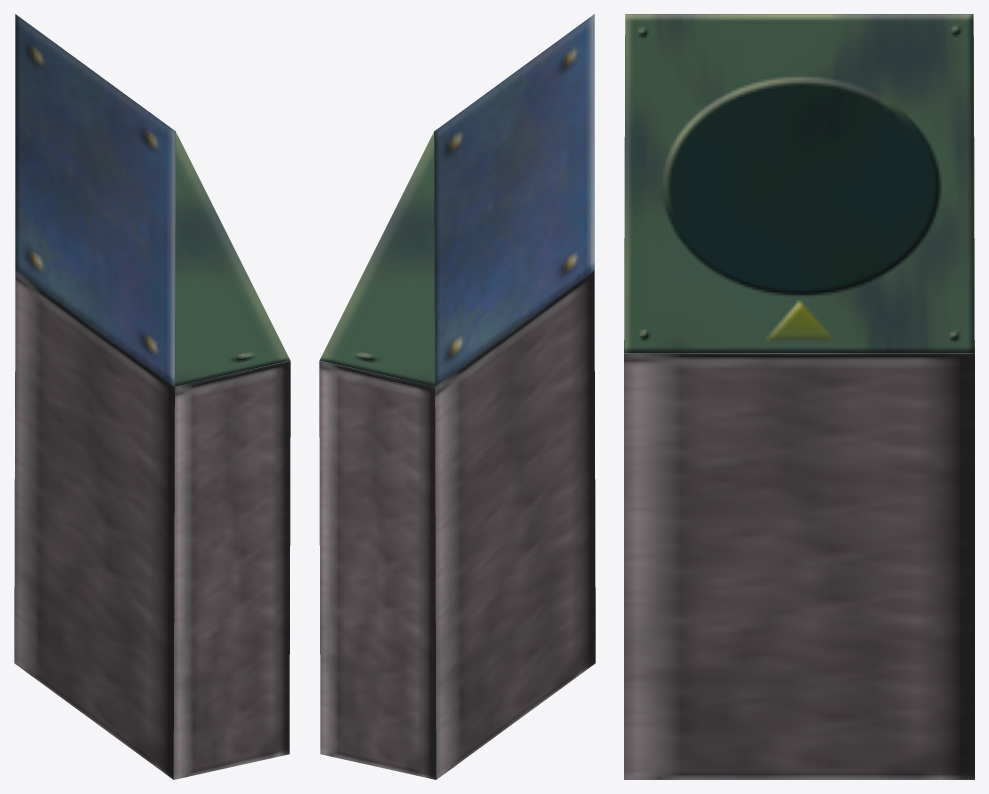
File: teslaswitch.glb
3 renders of one model, left to right at view 1: azimuth 30°, elevation 25°; view 2: azimuth 150°, elevation 25°; view 3: azimuth 270°, elevation 25°, orthographic. The views are drawn at different scales.
Visible parts, largest first — view 1: teslaswitch; view 2: teslaswitch; view 3: teslaswitch.
Boxes of the visible parts, x1,y1,x2,y2 form: teslaswitch: [14, 14, 290, 779]; teslaswitch: [319, 14, 595, 779]; teslaswitch: [624, 14, 974, 779].
Size of the model in its own units: 23.16 by 124 by 55.82.
3 materials, 3 textured.
